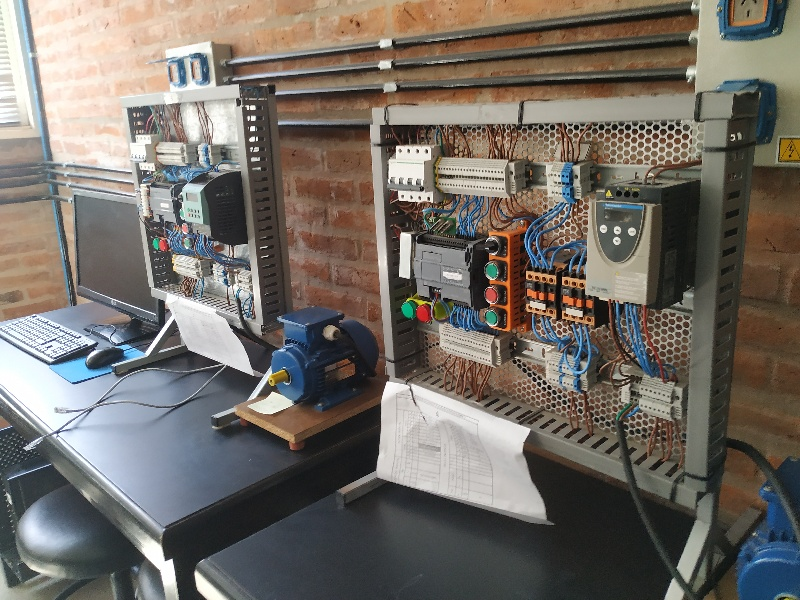Tablero 4: (377, 123, 705, 465)
